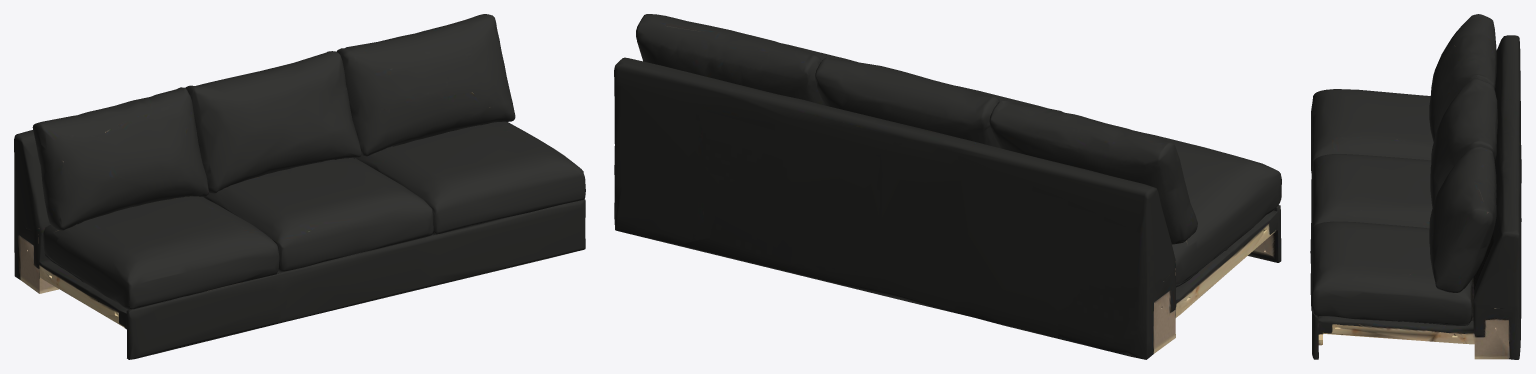
The model's file is FINNALA_90455005.glb.
3 renders of one model, left to right at view 1: azimuth 30°, elevation 25°; view 2: azimuth 150°, elevation 25°; view 3: azimuth 270°, elevation 25°, orthographic. The views are drawn at different scales.
Parts seen in each view (by area): view 1: ProcessedMeshNode; view 2: ProcessedMeshNode; view 3: ProcessedMeshNode.
Part boxes in pixels (x1,y1,x2,y2): ProcessedMeshNode: [14, 14, 585, 359]; ProcessedMeshNode: [614, 14, 1281, 359]; ProcessedMeshNode: [1310, 14, 1521, 359].
Bounding box in the file's own units: 2.12 × 0.7482 × 0.9464.
2 materials, 2 textured.
